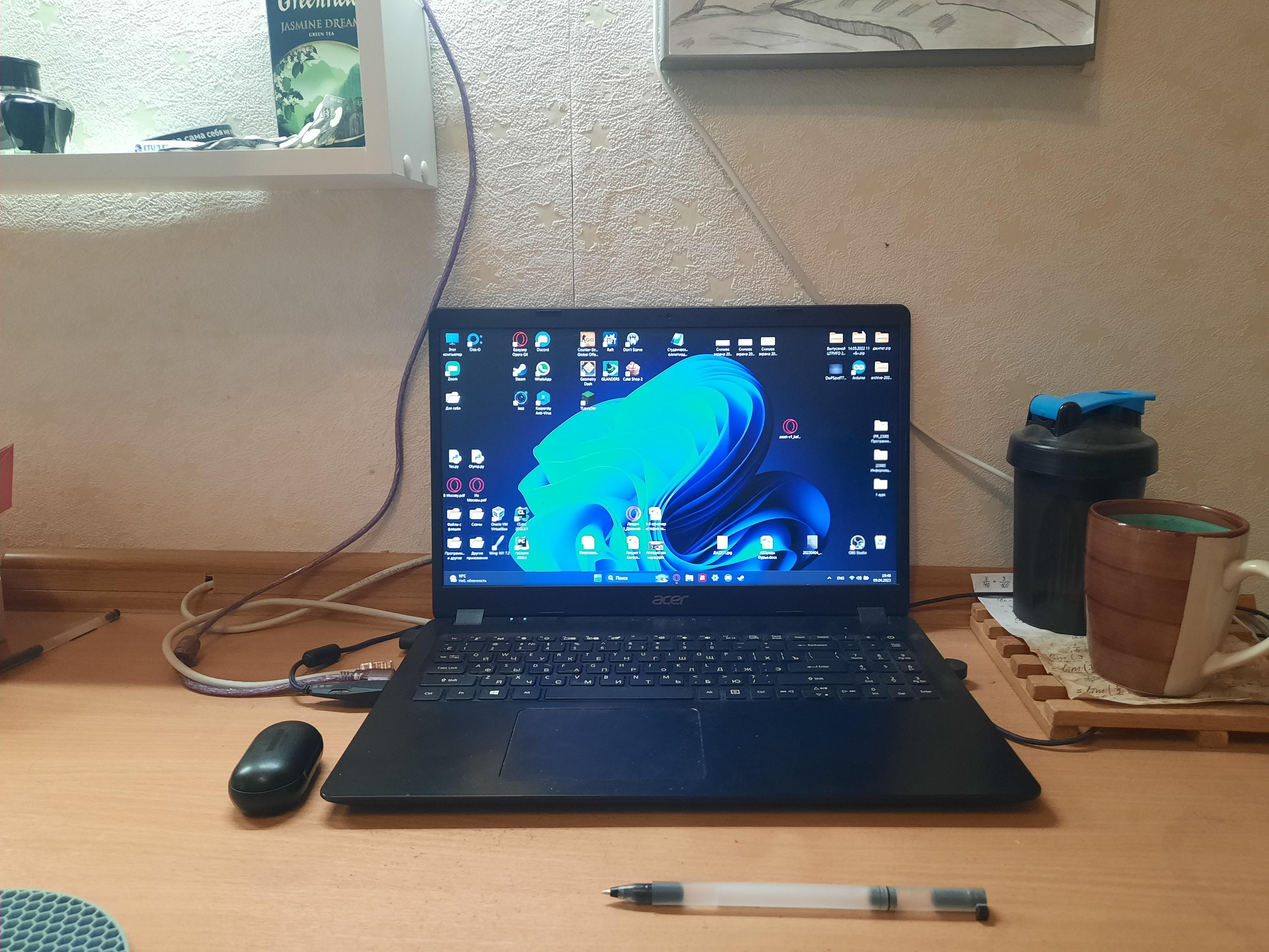monitor: (424, 300, 914, 616)
